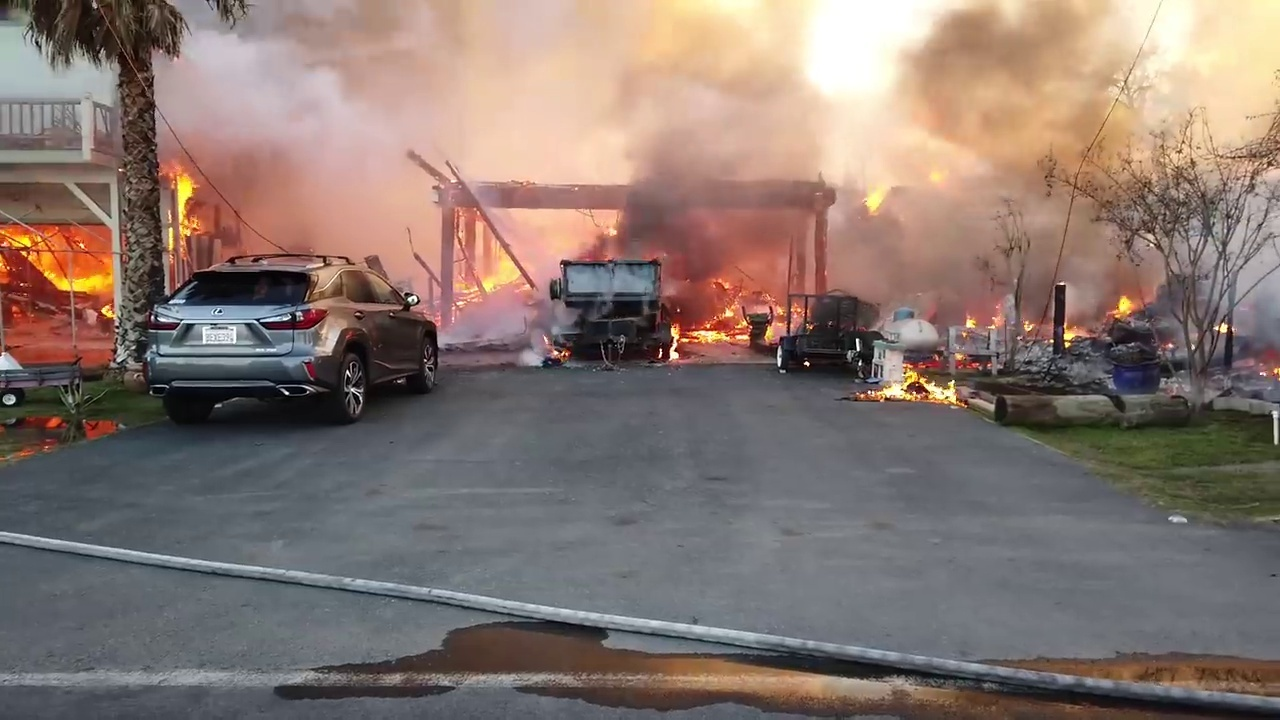fire: (1, 206, 115, 323), (854, 150, 951, 228), (162, 152, 204, 266), (865, 357, 965, 404), (456, 249, 527, 305), (673, 299, 750, 340), (1110, 293, 1138, 317), (764, 314, 786, 339), (545, 337, 570, 358), (959, 309, 984, 327), (984, 307, 1004, 324), (1262, 361, 1279, 375), (1021, 316, 1036, 329)
smoke: (205, 1, 828, 243), (829, 1, 1280, 285), (673, 249, 822, 297), (151, 43, 203, 150), (1066, 285, 1110, 326)
